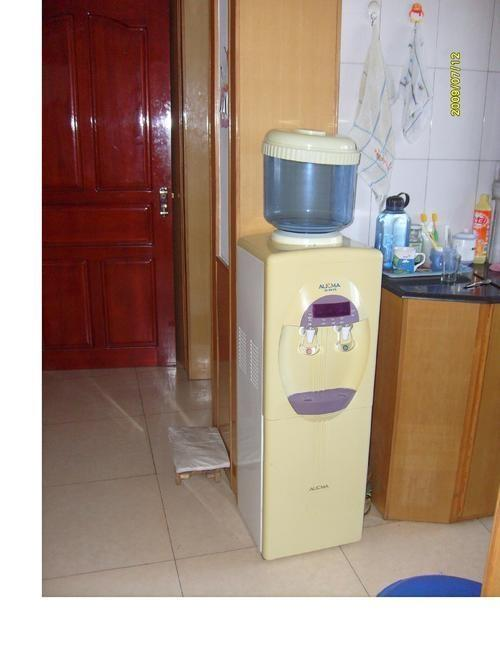Dispenser: (232, 127, 383, 562)
